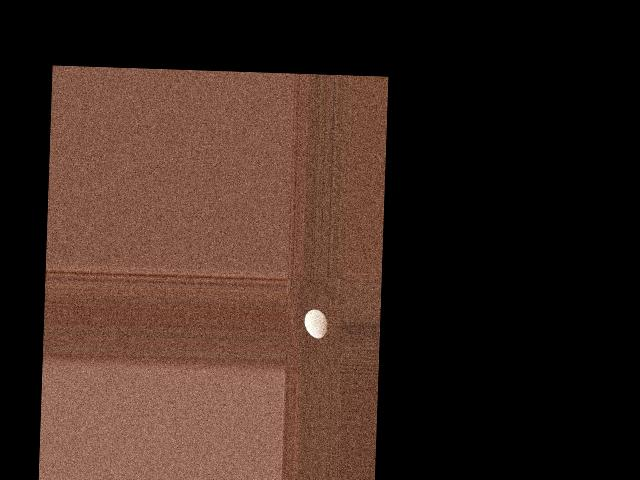egg: (304, 309, 327, 339)
